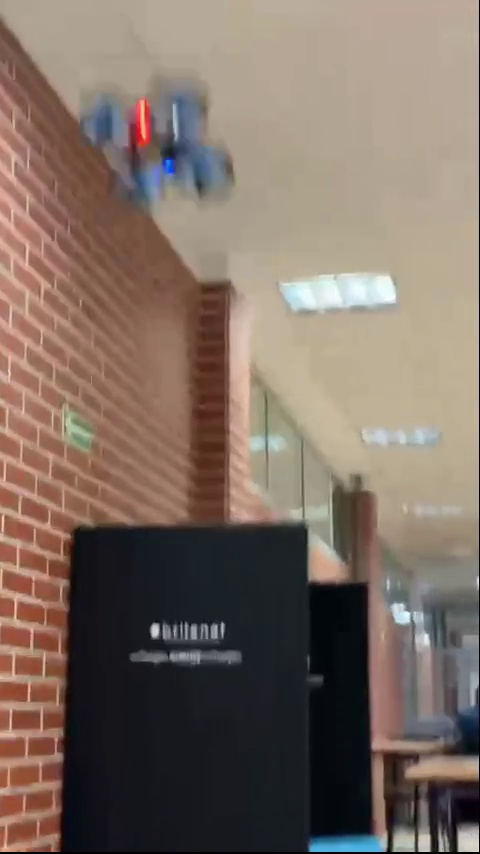drone: (76, 81, 239, 200)
